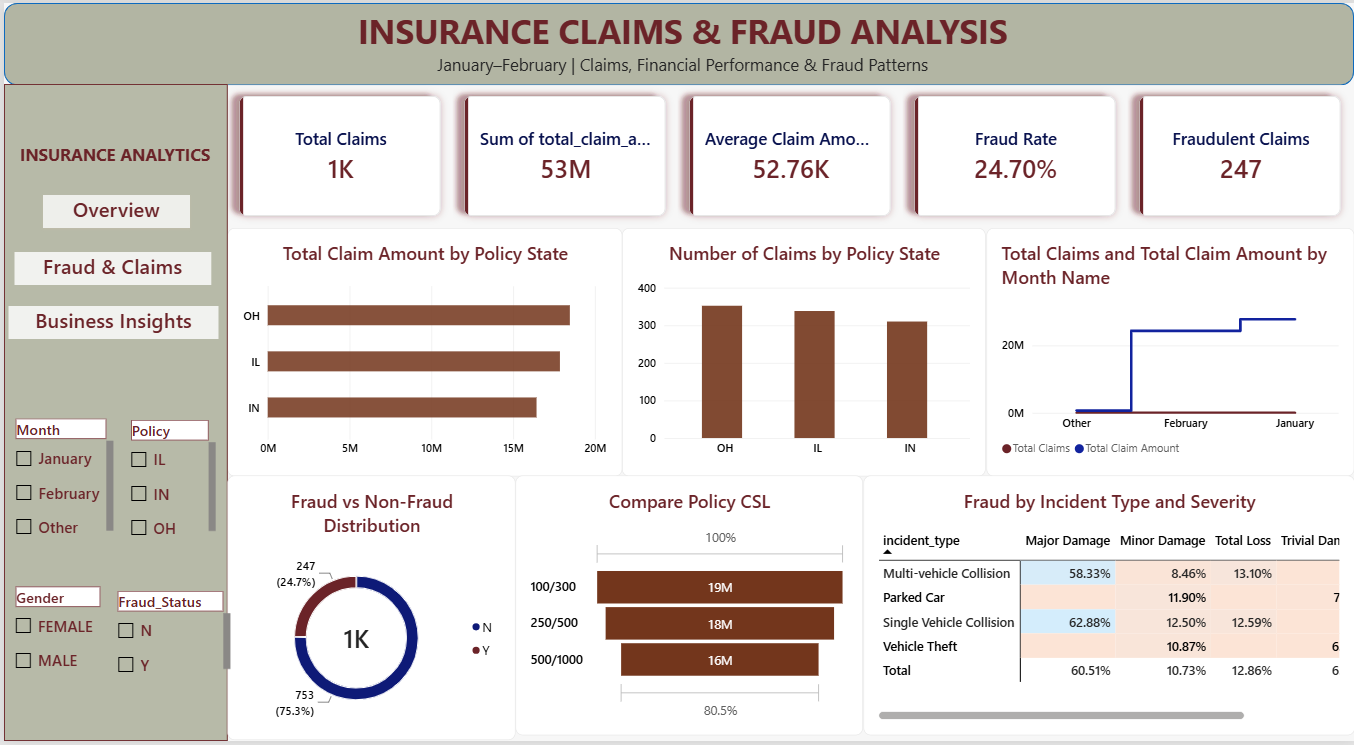

The dashboard page shown, as its layout file describes it:
{"tool":"powerbi","page":{"name":"Overview","canvas":[1500,820],"ordinal":0},"visuals":[{"type":"cardVisual","fields":{"Data":["insurance dataset.Total Claims","Sum(insurance dataset.total_claim_amount)","insurance dataset.Average Claim Amount","insurance dataset.Fraud Rate","insurance dataset.Fraudulent Claims"]},"box":[248.6,90,1251.7,160],"z":0},{"type":"lineChart","title":"Total Claims and Total Claim Amount by Month Name","fields":{"Category":["insurance dataset.Incident Month Name"],"Y":["insurance dataset.Total Claims","insurance dataset.Total Claim Amount"]},"box":[1091.4,250,408.6,275.7],"z":1000},{"type":"clusteredBarChart","title":"Total Claim Amount by Policy State","fields":{"Category":["insurance dataset.policy_state"],"Y":["insurance dataset.Total Claim Amount"]},"box":[248.6,250,438.6,275.7],"z":2000},{"type":"clusteredColumnChart","title":"Number of Claims by Policy State","fields":{"Category":["insurance dataset.policy_state"],"Y":["insurance dataset.Total Claims"]},"box":[687.1,250,404.3,275.7],"z":3000},{"type":"funnel","title":"Compare Policy CSL","fields":{"Category":["insurance dataset.policy_csl"],"Y":["insurance dataset.Total Claim Amount"]},"box":[568.6,525.7,385.7,288.6],"z":4000},{"type":"tableEx","fields":{"Values":["insurance dataset.policy_state","insurance dataset.policy_csl","insurance dataset.Total Claims","insurance dataset.Total Claim Amount","insurance dataset.Average Claim Amount","insurance dataset.Fraud Rate"]},"box":[1155.4,837.3,692.4,233.5],"z":5000},{"type":"shape","box":[0,0,1500,91.4],"z":6000},{"type":"shape","box":[0,90,248.6,730],"z":7000},{"type":"textbox","box":[185,5,1138.3,50],"z":8000},{"type":"textbox","box":[340,55,828.3,46.7],"z":9000},{"type":"donutChart","title":"Fraud vs Non-Fraud Distribution","fields":{"Category":["insurance dataset.fraud_reported"],"Y":["insurance dataset.Total Claims"]},"box":[248.6,525.7,320,294.3],"z":10000},{"type":"pivotTable","title":"Fraud by Incident Type and Severity","fields":{"Columns":["insurance dataset.incident_severity"],"Rows":["insurance dataset.incident_type"],"Values":["insurance dataset.Fraud Rate"]},"box":[954.3,525.7,545.7,288.6],"z":11000},{"type":"textbox","box":[11.7,148.3,223.3,50],"z":12000},{"type":"actionButton","title":"Overview","box":[43.3,213.3,163.3,36.7],"z":13000},{"type":"actionButton","title":"Fraud & Claims","box":[11.7,276.7,218.3,36.7],"z":14000},{"type":"slicer","fields":{"Values":["insurance dataset.Incident Month Name"]},"box":[5,461.7,116.7,136.7],"z":15000},{"type":"slicer","fields":{"Values":["insurance dataset.policy_state"]},"box":[133.3,463.3,101.7,135],"z":16000},{"type":"slicer","fields":{"Values":["insurance dataset.insured_sex"]},"box":[5,648.3,110,108.3],"z":17000},{"type":"slicer","fields":{"Values":["insurance dataset.fraud_reported"]},"box":[118.3,653.3,133.3,98.3],"z":18000},{"type":"actionButton","title":"Business Insights ","box":[5,336.7,233.3,36.7],"z":19000}]}

Visuals, with their boxes in screenshot pixels (x1, y1, x2, y2), scaled from the page's 1500x820 canvas onto the 1354x745 screenshot:
cardVisual - insurance dataset.Total Claims x Sum(insurance dataset.total_claim_amount): box(224, 82, 1353, 227)
"Total Claims and Total Claim Amount by Month Name" lineChart: box(985, 227, 1353, 478)
"Total Claim Amount by Policy State" clusteredBarChart: box(224, 227, 620, 478)
"Number of Claims by Policy State" clusteredColumnChart: box(620, 227, 985, 478)
"Compare Policy CSL" funnel: box(513, 478, 861, 740)
shape: box(0, 0, 1353, 83)
shape: box(0, 82, 224, 744)
textbox: box(167, 5, 1194, 50)
textbox: box(307, 50, 1055, 92)
"Fraud vs Non-Fraud Distribution" donutChart: box(224, 478, 513, 744)
"Fraud by Incident Type and Severity" pivotTable: box(861, 478, 1353, 740)
textbox: box(11, 135, 212, 180)
"Overview" actionButton: box(39, 194, 186, 227)
"Fraud & Claims" actionButton: box(11, 251, 208, 285)
slicer - insurance dataset.Incident Month Name: box(5, 419, 110, 544)
slicer - insurance dataset.policy_state: box(120, 421, 212, 544)
slicer - insurance dataset.insured_sex: box(5, 589, 104, 687)
slicer - insurance dataset.fraud_reported: box(107, 594, 227, 683)
"Business Insights " actionButton: box(5, 306, 215, 339)
